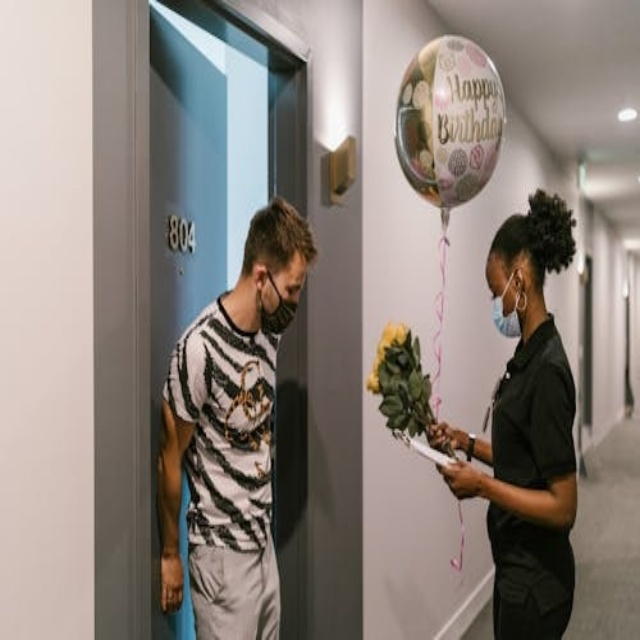Mascara: (261, 271, 298, 335), (491, 271, 524, 338)
Sin_gafas: (280, 267, 306, 304), (483, 273, 502, 296)
Sin_guantes: (435, 456, 482, 501), (156, 546, 187, 613)
